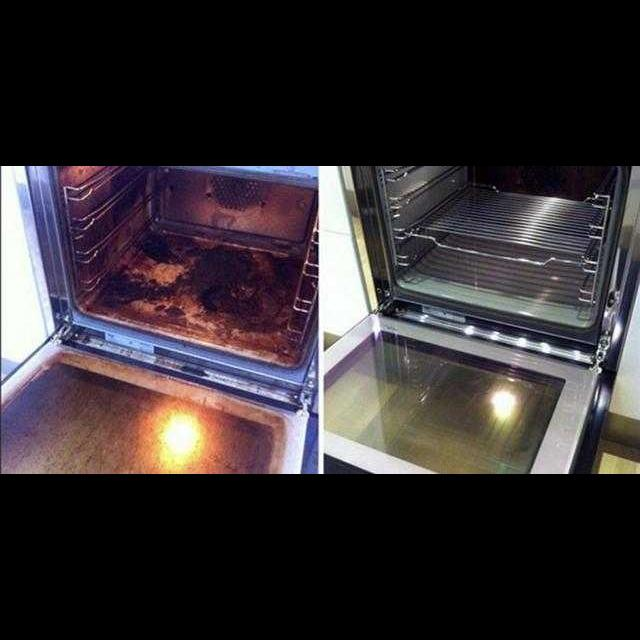Oven: (8, 167, 320, 416), (338, 166, 638, 352)
